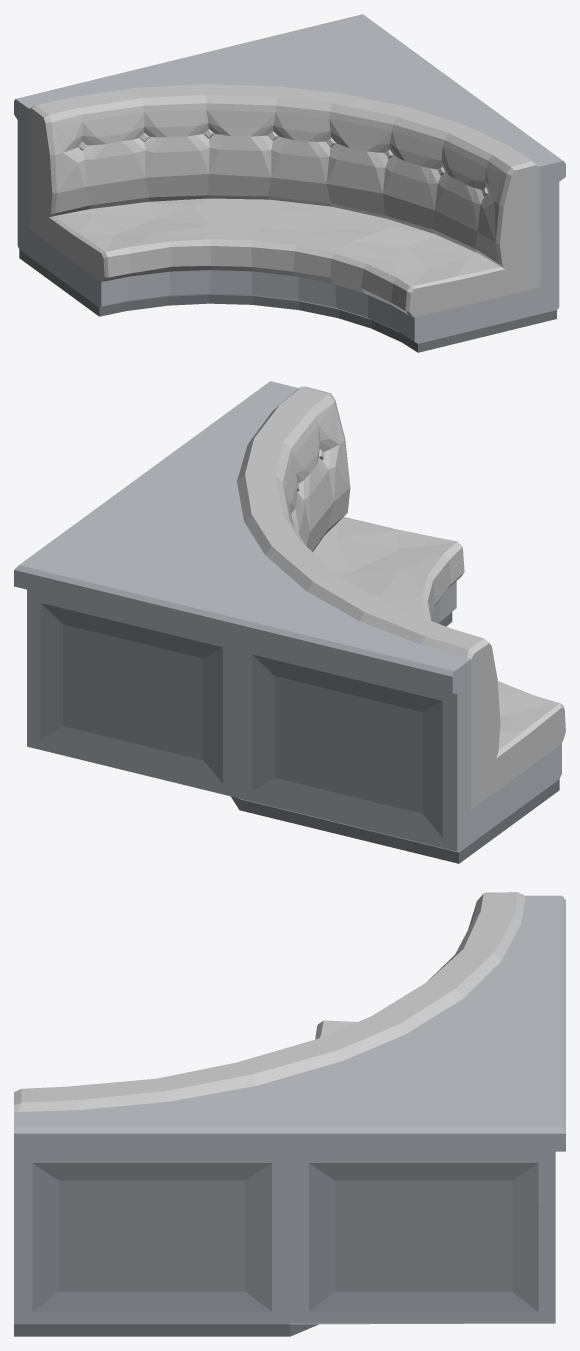
Rendered from SM_Prop_Sofa_03_Corner_02.fbx.
The picture shows the model from 3 angles, top to bottom: view 1: azimuth 30°, elevation 25°; view 2: azimuth 150°, elevation 25°; view 3: azimuth 270°, elevation 25°; orthographic projection. The views are drawn at different scales.
Parts seen in each view (by area): view 1: SM_Prop_Sofa_03_Corner_02; view 2: SM_Prop_Sofa_03_Corner_02; view 3: SM_Prop_Sofa_03_Corner_02.
Part boxes in pixels (<box>): SM_Prop_Sofa_03_Corner_02: <box>14,14,565,352</box>; SM_Prop_Sofa_03_Corner_02: <box>14,381,565,863</box>; SM_Prop_Sofa_03_Corner_02: <box>14,892,565,1336</box>.
Bounding box in the file's own units: 250 × 111 × 250.
